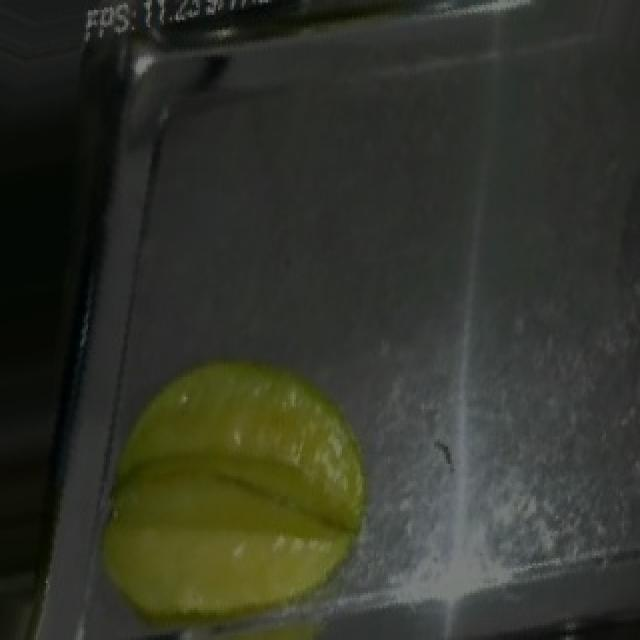fruit: (66, 320, 402, 640)
